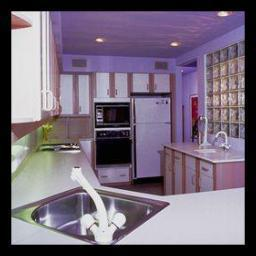Lavaplatos: (17, 161, 166, 243), (192, 130, 228, 158)
